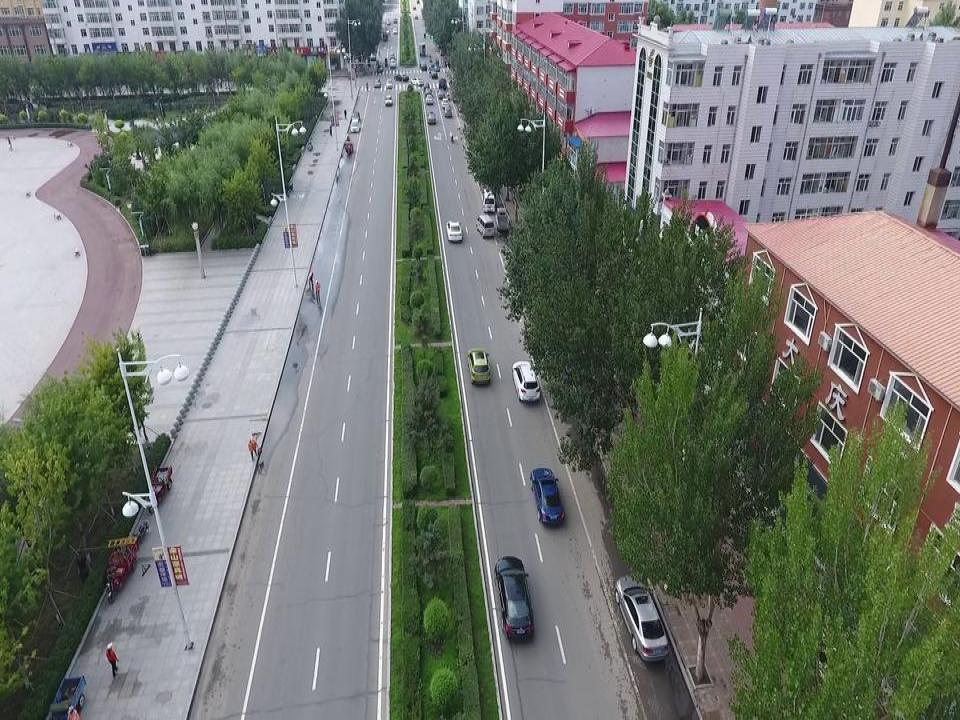car: (613, 572, 669, 664), (491, 554, 535, 642), (529, 467, 565, 528), (512, 359, 542, 404), (466, 346, 492, 386), (446, 219, 463, 244), (350, 118, 361, 133), (410, 76, 424, 87), (351, 109, 360, 123), (394, 74, 409, 82), (442, 106, 452, 118), (427, 111, 436, 124), (385, 93, 393, 107), (425, 93, 434, 104), (385, 78, 393, 90), (440, 97, 449, 107), (429, 69, 438, 79), (437, 88, 445, 99), (373, 77, 380, 88), (423, 81, 430, 91), (424, 88, 432, 96)
truck: (439, 77, 447, 91)
van: (475, 212, 495, 240), (482, 187, 496, 213)
